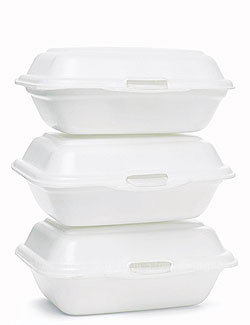Foam Box: (5, 128, 246, 231), (12, 215, 241, 318), (11, 41, 239, 137)
